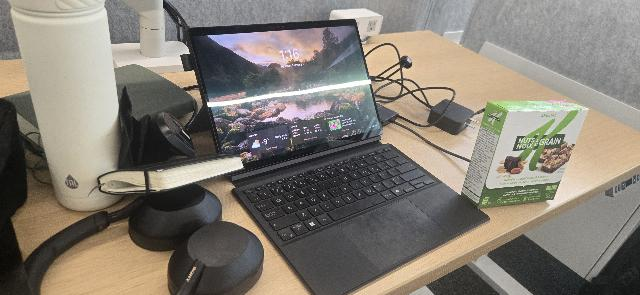Keyboard: (236, 148, 435, 241)
